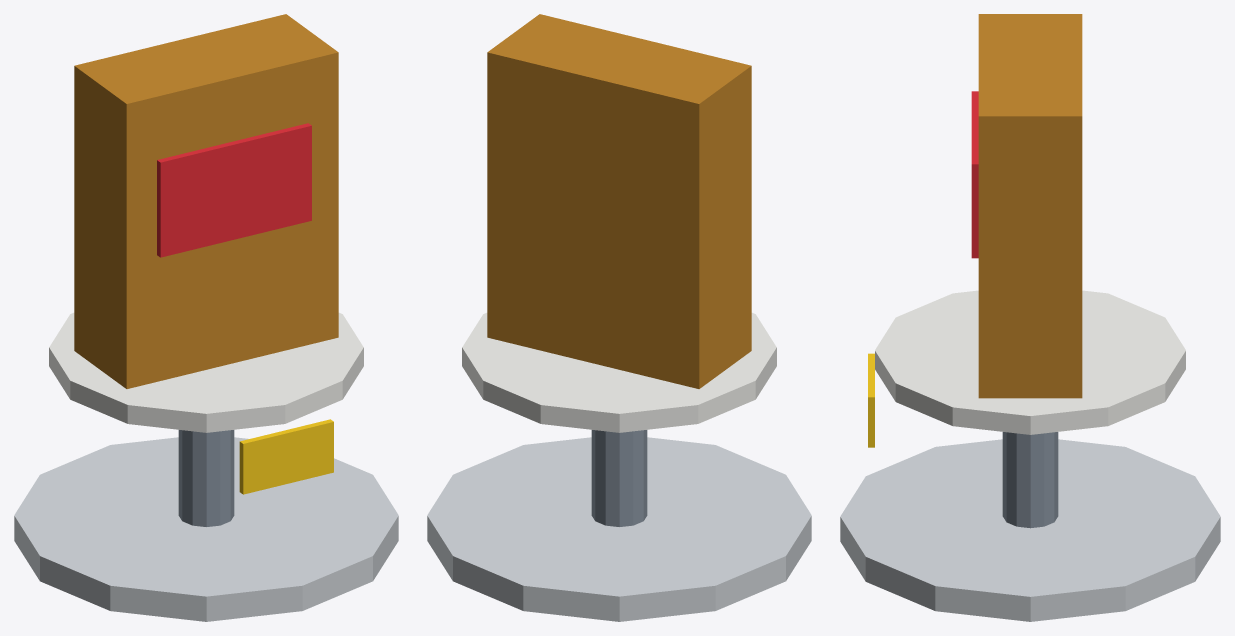
Rendered from item-dog_food.glb.
The picture shows the model from 3 angles, left to right: view 1: azimuth 30°, elevation 25°; view 2: azimuth 150°, elevation 25°; view 3: azimuth 270°, elevation 25°; orthographic projection.
Visible parts, largest first — view 1: item-dog_food; view 2: item-dog_food; view 3: item-dog_food.
Part boxes in pixels (x1,y1,x2,y2): item-dog_food: (14, 14, 398, 621); item-dog_food: (427, 14, 811, 621); item-dog_food: (840, 14, 1220, 621).
Size of the model in its own units: 1.1 by 1.52 by 1.1.
